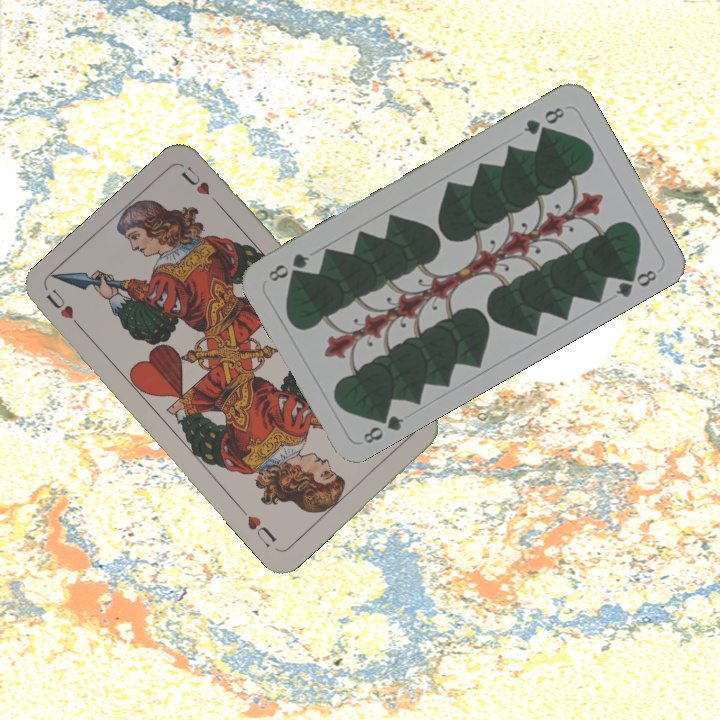G8: (359, 406, 407, 447), (519, 103, 567, 138)
HU: (42, 285, 88, 335)
